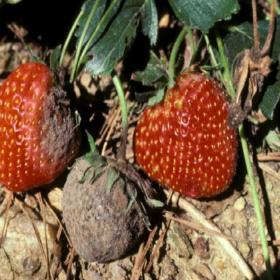Gray Mold: (61, 132, 163, 263), (24, 69, 82, 173)
